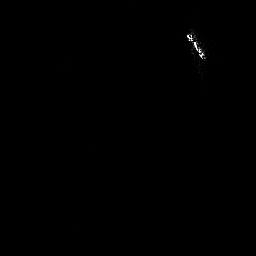ship: (185, 30, 208, 62)
